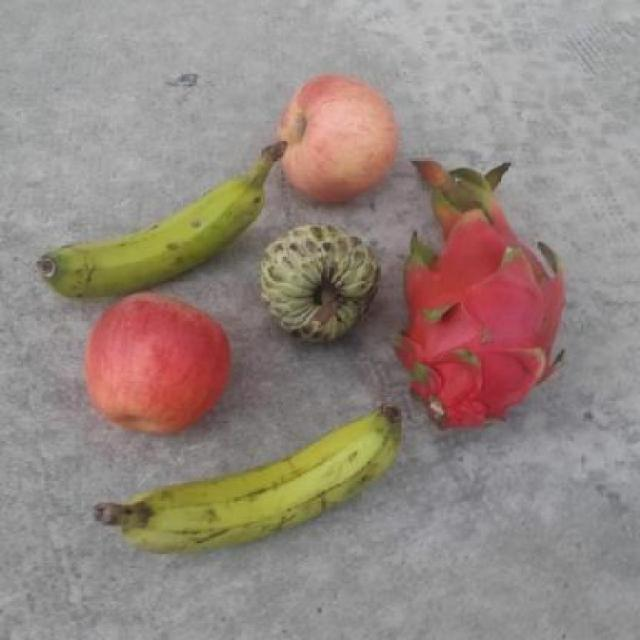apple: (80, 292, 232, 433), (276, 74, 402, 204)
banana: (90, 403, 404, 554), (34, 141, 289, 297)
dragon fruit: (388, 160, 570, 434)
sugar apple: (258, 222, 382, 344)
